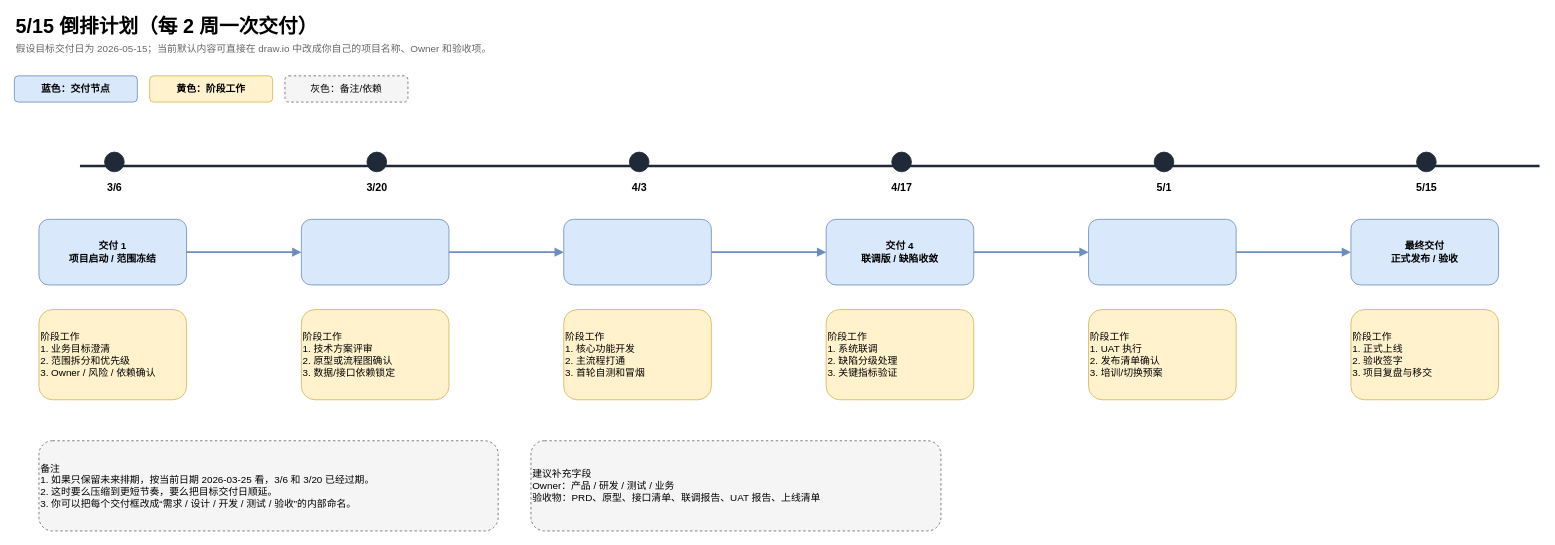
Image size: 1555x545. Some labels were removed from this diagram. Here are the shapes that lost their labels. From the top down, the centre of each, then its label:
At (375,252): "交付 2 方案评审 / 原型确认".
At (637,252): "交付 3 核心能力一版可跑通".
At (1162,252): "交付 5 UAT / 上线准备".
